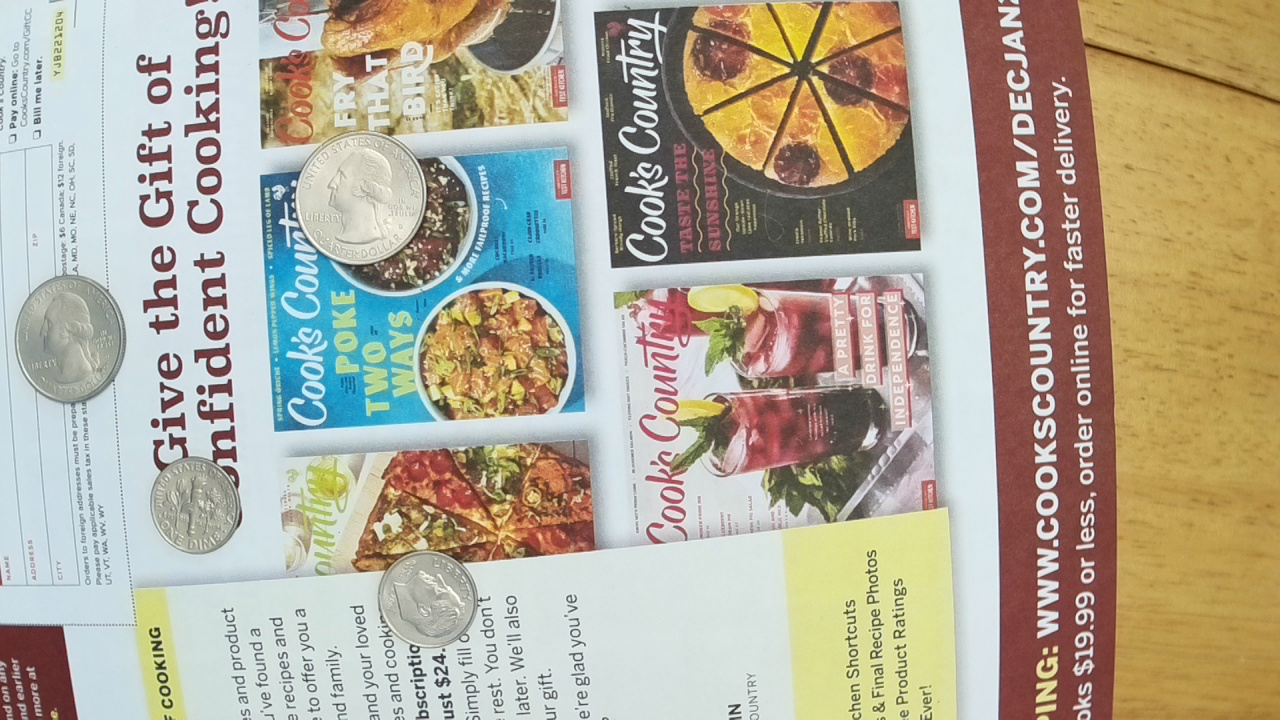dime: (148, 455, 244, 553), (380, 549, 476, 647)
quarter: (296, 126, 424, 276), (10, 275, 126, 403)
